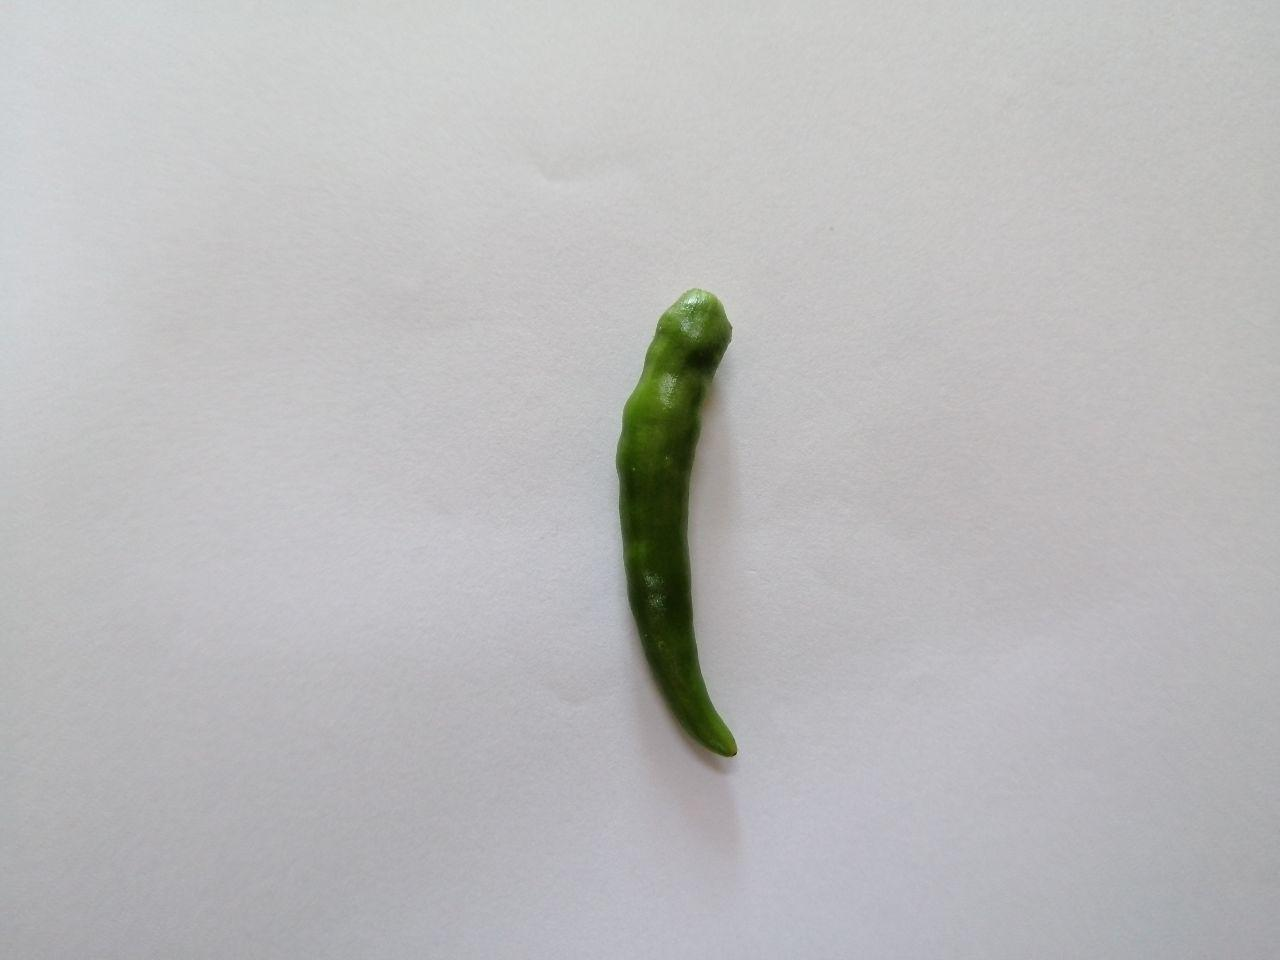lada hijau: (600, 278, 760, 784)
